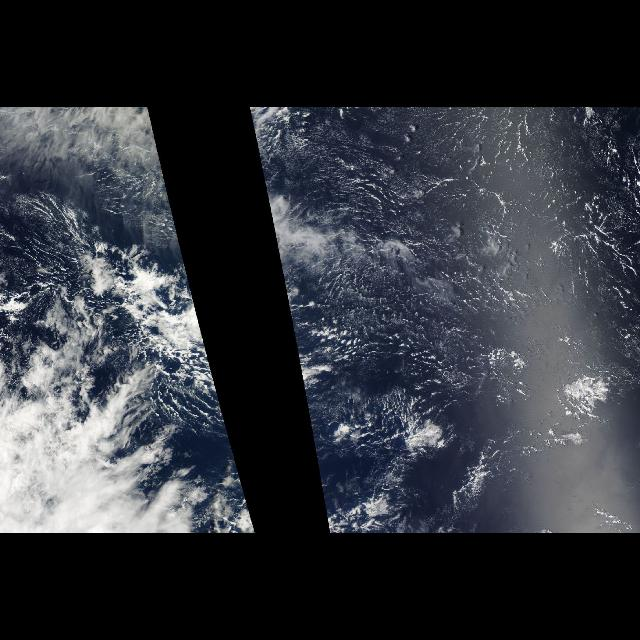Fish: (20, 192, 232, 450), (266, 192, 356, 450)
Gravel: (310, 109, 638, 411)
Sugar: (336, 115, 640, 381), (5, 108, 159, 316)
